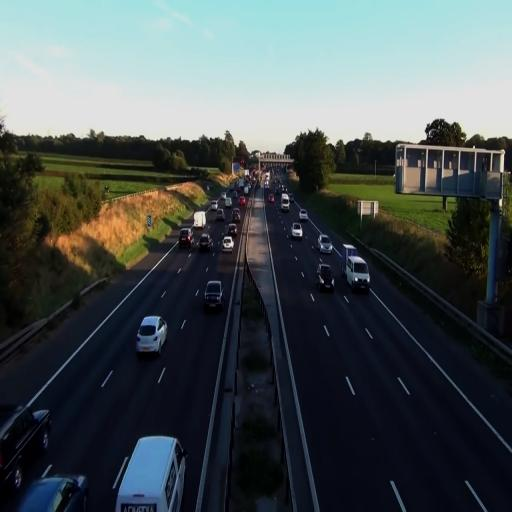vehicle: (112, 434, 188, 512), (0, 405, 52, 495), (13, 471, 89, 512), (135, 314, 167, 356), (345, 255, 370, 294), (203, 279, 223, 312), (317, 264, 334, 292), (178, 226, 194, 250), (198, 232, 212, 254), (318, 234, 332, 252), (319, 236, 333, 253), (291, 223, 304, 239)
